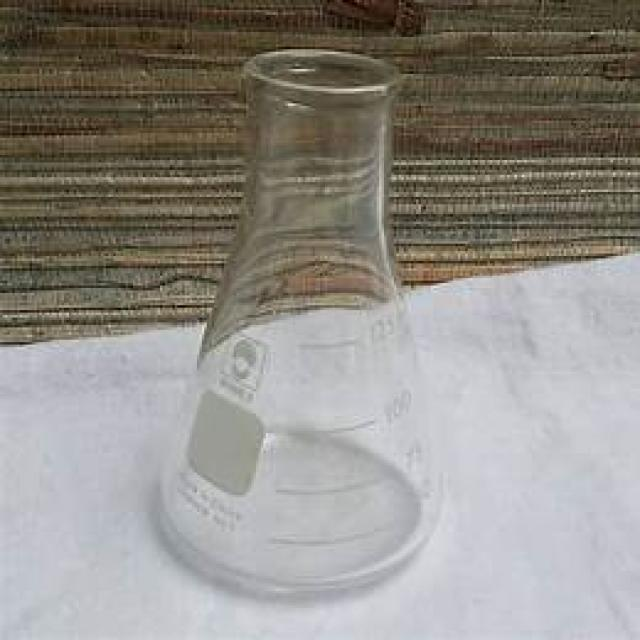Titrarion: (137, 52, 446, 590)
